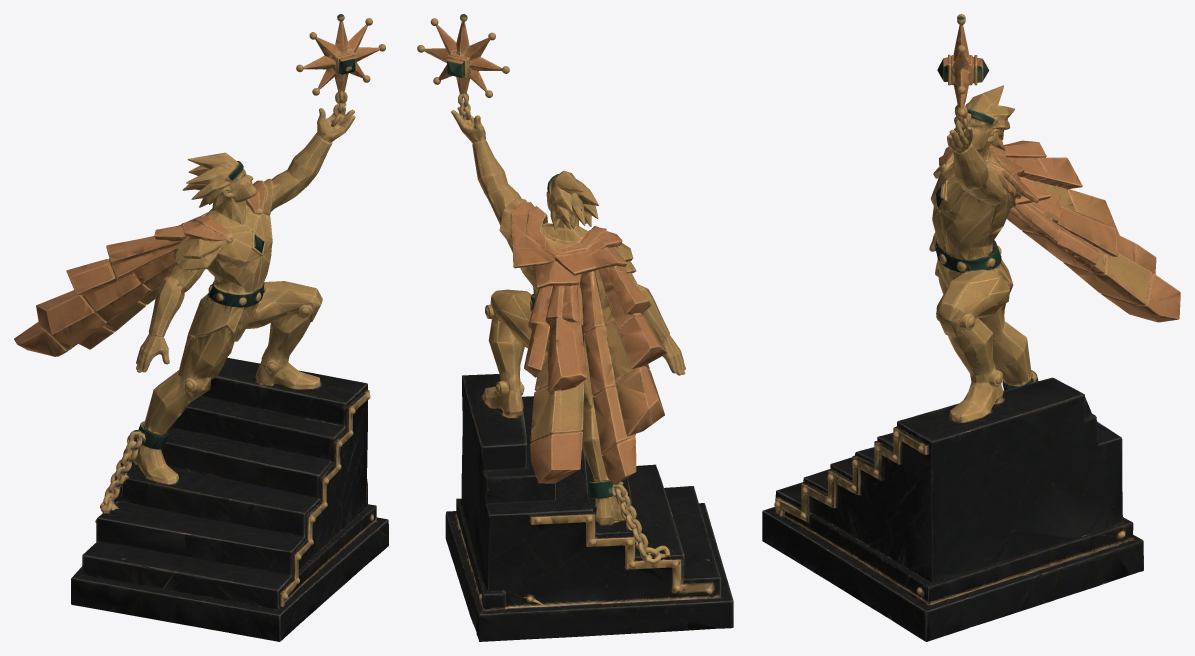
File: astra.glb
3 renders of one model, left to right at view 1: azimuth 30°, elevation 25°; view 2: azimuth 150°, elevation 25°; view 3: azimuth 270°, elevation 25°, orthographic. The views are drawn at different scales.
Parts seen in each view (by area): view 1: output_unwrapped; view 2: output_unwrapped; view 3: output_unwrapped.
Part boxes in pixels (bbox=[...]): output_unwrapped: bbox=[14, 14, 388, 641]; output_unwrapped: bbox=[417, 14, 733, 641]; output_unwrapped: bbox=[762, 14, 1180, 641].
Size of the model in its own units: 7.38 by 12 by 7.5.
1 material, 1 textured.
